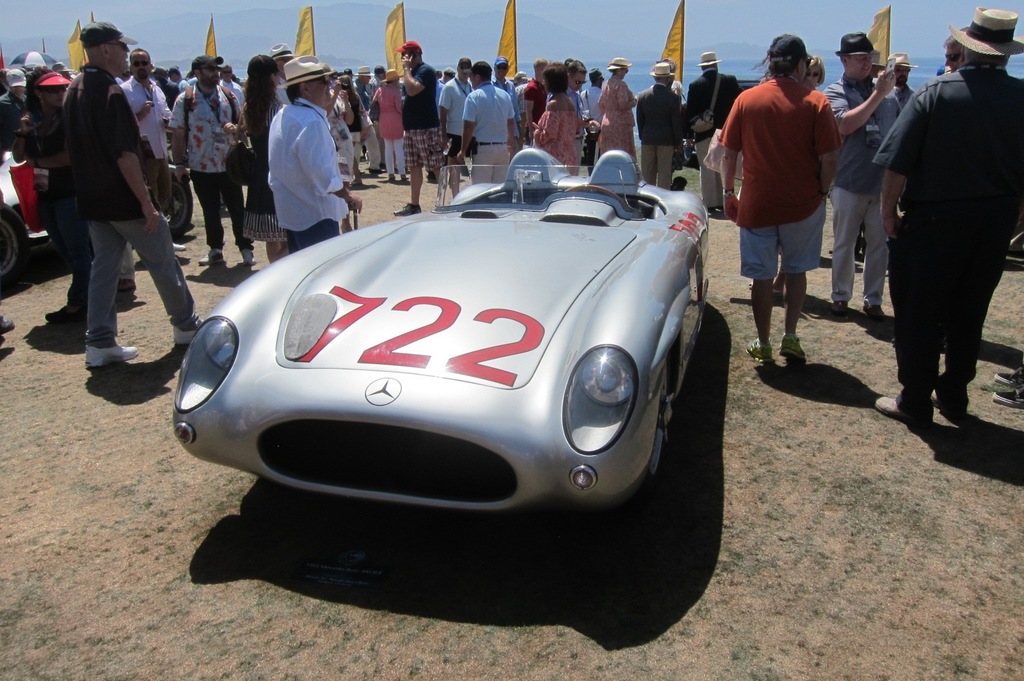Car: (164, 136, 736, 561)
